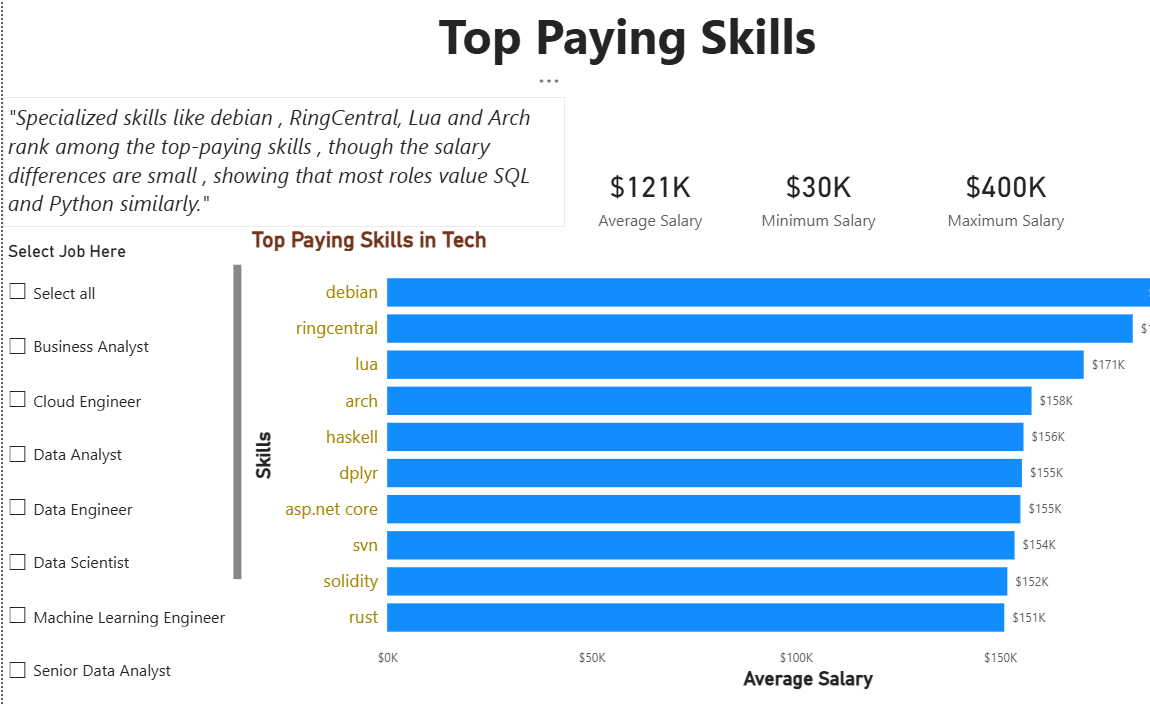

What the dashboard file says about the page in this screenshot:
{"tool":"powerbi","page":{"name":"top paying skills","canvas":[1280,720],"ordinal":2},"visuals":[{"type":"barChart","title":"Top Paying Skills in Tech","fields":{"Y":["Avg(public bi_top_paying_skills.final_salary)"],"Category":["public bi_top_paying_skills.skills"]},"box":[243.8,230,1005,467.5],"z":0},{"type":"listSlicer","fields":{"Values":["public bi_top_paying_skills.job_title_short"]},"box":[0,243.8,243.8,467.5],"z":1000},{"type":"card","fields":{"Values":["Max(public bi_top_paying_skills.final_salary)"]},"box":[907.5,148.8,191.2,100],"z":2000},{"type":"card","fields":{"Values":["Min(public bi_top_paying_skills.final_salary)"]},"box":[723.8,148.8,183.8,100],"z":3000},{"type":"card","fields":{"Values":["Avg(public bi_top_paying_skills.final_salary)"]},"box":[562.5,148.8,170,100],"z":4000},{"type":"textbox","box":[0,0,1248.7,104.3],"z":5000},{"type":"textbox","box":[0,100.2,562.6,130.4],"z":6000}]}

Visuals, with their boxes on the page's 1280x720 design canvas (x1, y1, x2, y2). These are canvas units, not pixel positions in the 1150x705 screenshot, which may show the page scaled, cropped or inside an application window:
"Top Paying Skills in Tech" barChart: (x1=244, y1=230, x2=1249, y2=698)
listSlicer - public bi_top_paying_skills.job_title_short: (x1=0, y1=244, x2=244, y2=711)
card - Max(public bi_top_paying_skills.final_salary): (x1=908, y1=149, x2=1099, y2=249)
card - Min(public bi_top_paying_skills.final_salary): (x1=724, y1=149, x2=908, y2=249)
card - Avg(public bi_top_paying_skills.final_salary): (x1=562, y1=149, x2=732, y2=249)
textbox: (x1=0, y1=0, x2=1249, y2=104)
textbox: (x1=0, y1=100, x2=563, y2=231)
